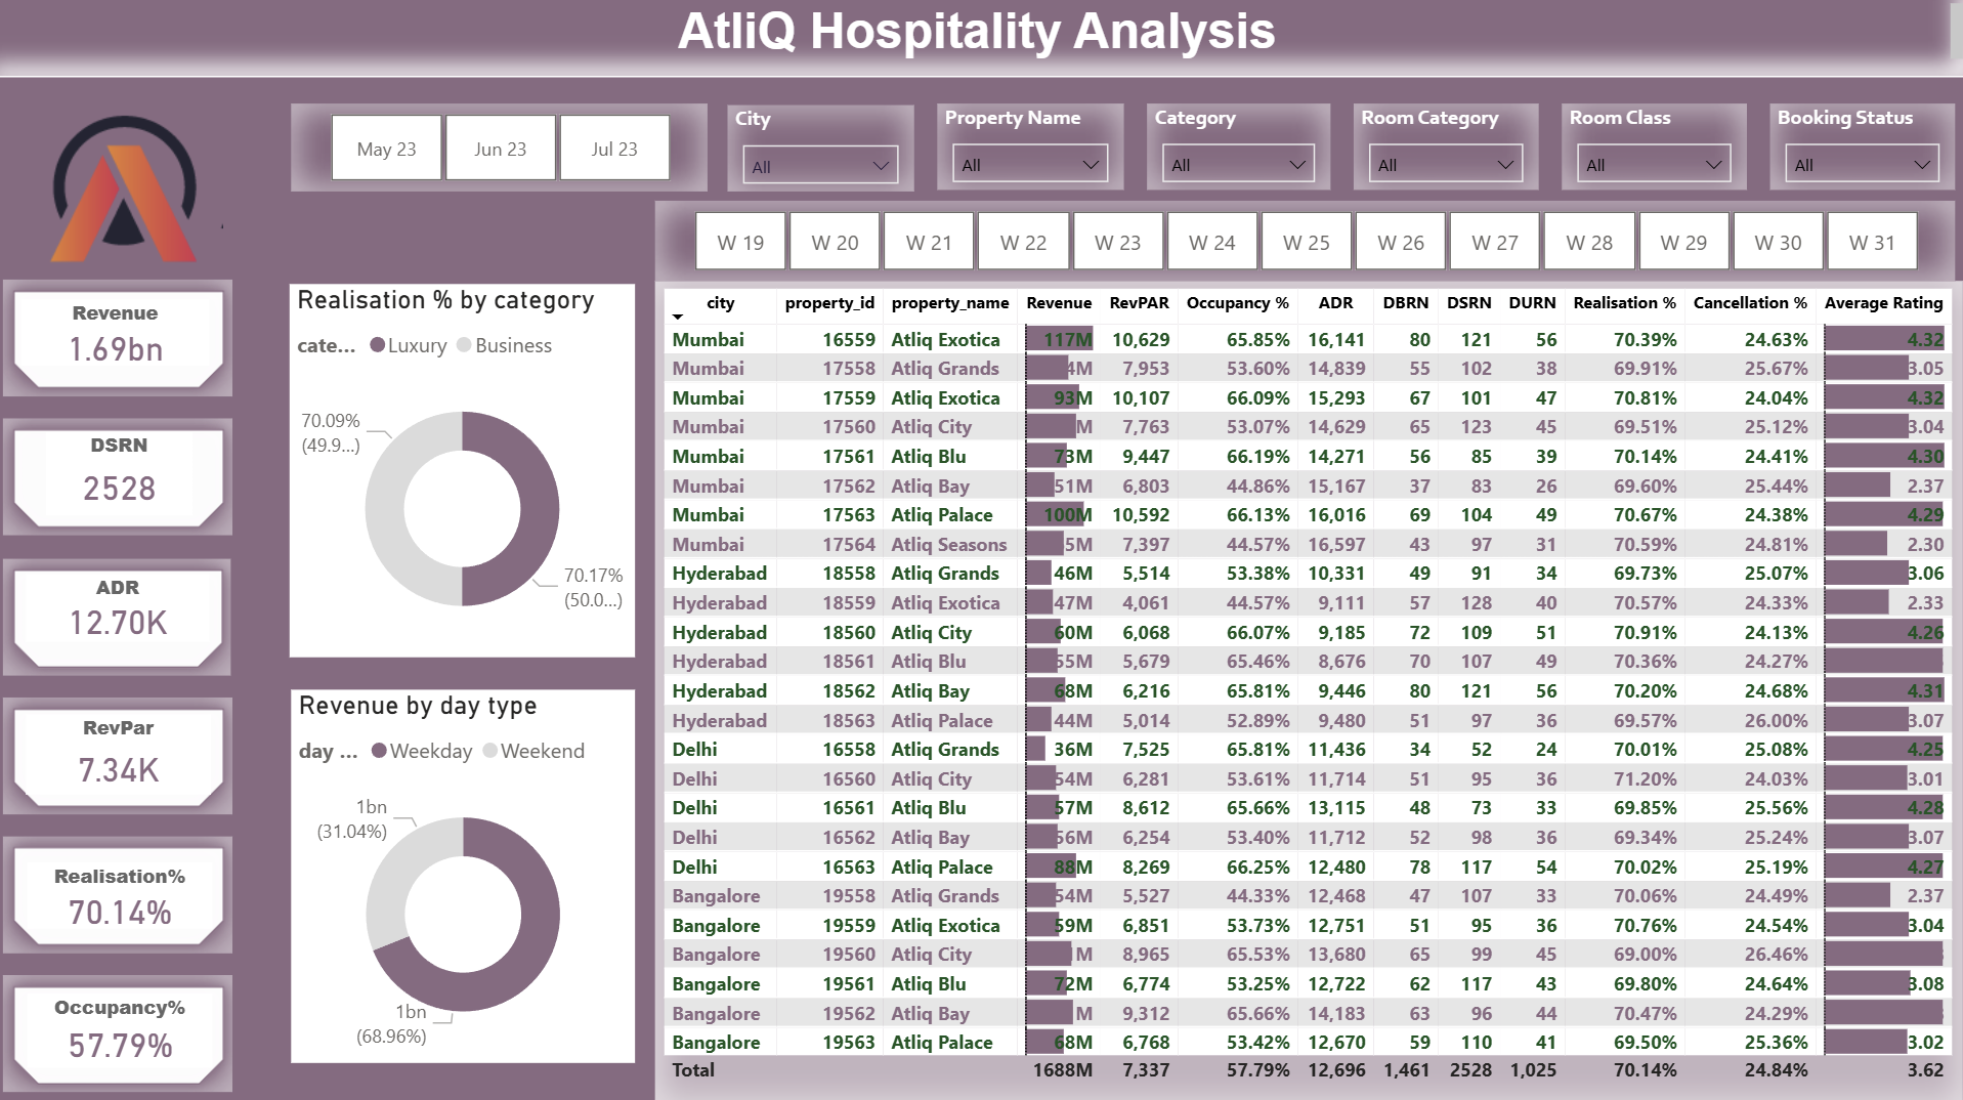

Layout of this report page (visuals, bound fields, positions):
{"tool":"powerbi","page":{"name":"KEY METRICES","canvas":[1280,720],"ordinal":2},"visuals":[{"type":"tableEx","fields":{"Values":["dim_hotels.city","dim_hotels.property_id","dim_hotels.property_name","key_measure.Revenue","key_measure.RevPAR","key_measure.Occupancy %","key_measure.ADR","key_measure.DBRN","key_measure.DSRN","key_measure.DURN","key_measure.Realisation %","key_measure.Cancellation %"]},"box":[428.1,185.7,847.8,534.3],"z":0},{"type":"slicer","title":"City","fields":{"Values":["dim_hotels.city"]},"box":[475.4,72.4,120.6,55.5],"z":1000},{"type":"slicer","title":"Property Name","fields":{"Values":["dim_hotels.property_name"]},"box":[611,71.2,120.6,55.5],"z":2000},{"type":"slicer","title":"Category","fields":{"Values":["dim_hotels.category"]},"box":[746.7,71.2,119.4,55.5],"z":3000},{"type":"slicer","title":"Room Class","fields":{"Values":["dim_rooms.room_class"]},"box":[1016.1,71.2,120,56],"z":4000},{"type":"slicer","title":"Booking Status","fields":{"Values":["fact_bookings.booking_status"]},"box":[1151.1,71.2,120,56],"z":5000},{"type":"slicer","title":"Room Category","fields":{"Values":["fact_aggregated_bookings.room_category"]},"box":[881.1,71.2,120,56],"z":6000},{"type":"slicer","fields":{"Values":["dim_date.week no"]},"box":[428.1,133.9,843,51.9],"z":7000},{"type":"slicer","fields":{"Values":["dim_date.mmm yy"]},"box":[191.8,71.2,270.2,56.7],"z":8000},{"type":"group","id":"g1","title":"Group 7","box":[3.6,184.2,150.8,78.4],"z":9000},{"type":"textbox","box":[0,0,1280,54],"z":10000},{"type":"card","title":"Revenue","fields":{"Values":["key_measure.Revenue"]},"box":[16.9,198.7,121.8,43.4],"z":10000,"group":"g6"},{"type":"group","id":"g2","title":"Group 8","box":[3.6,274.4,150.8,78.4],"z":11000},{"type":"group","id":"g3","title":"Group 8","box":[3.6,364.7,149.5,78.4],"z":12000},{"type":"shape","box":[3.6,635.3,150.8,78],"z":12000,"group":"g12"},{"type":"group","id":"g4","title":"Group 9","box":[3.6,454.9,150.8,78.4],"z":13000},{"type":"shape","box":[3.6,184.2,150.8,78.4],"z":14000,"group":"g1"},{"type":"shape","box":[3.6,274.4,150.8,78.4],"z":14000,"group":"g7"},{"type":"shape","box":[3.6,364.7,150,78],"z":14000,"group":"g8"},{"type":"shape","box":[3.6,454.9,150.8,78.4],"z":14000,"group":"g10"},{"type":"group","id":"g5","title":"Group 10","box":[3.6,545.1,150.8,78.4],"z":14000},{"type":"shape","box":[3.6,545.1,150.8,78.4],"z":14000,"group":"g11"},{"type":"group","id":"g6","title":"Group 1","box":[16.9,198.7,121.8,43.4],"z":15000,"group":"g1"},{"type":"group","id":"g7","title":"Group 7","box":[3.6,274.4,150.8,78.4],"z":15000,"group":"g2"},{"type":"group","id":"g8","title":"Group 7","box":[3.6,364.7,150,78],"z":15000,"group":"g3"},{"type":"group","id":"g9","title":"Group 8","box":[3.6,454.9,150.8,78.4],"z":15000,"group":"g4"},{"type":"group","id":"g10","title":"Group 7","box":[3.6,454.9,150.8,78.4],"z":15000,"group":"g9"},{"type":"group","id":"g11","title":"Group 7","box":[3.6,545.1,150.8,78.4],"z":15000,"group":"g14"},{"type":"group","id":"g12","title":"Group 4","box":[3.6,635.3,150.8,77.2],"z":15000},{"type":"image","box":[3.6,51.9,149.5,149.5],"z":16000},{"type":"group","id":"g13","title":"Group 6","box":[32.5,284,95.3,54.3],"z":16000,"group":"g2"},{"type":"donutChart","fields":{"Y":["key_measure.Revenue"],"Category":["dim_date.day type"]},"box":[191.8,450.8,223.1,242.4],"z":17000},{"type":"group","id":"g14","title":"Group 8","box":[3.6,545.1,150.8,78.4],"z":17000,"group":"g5"},{"type":"card","title":"Occupancy%","fields":{"Values":["key_measure.Occupancy %"]},"box":[20.5,648.5,120.6,48],"z":17000,"group":"g12"},{"type":"donutChart","fields":{"Y":["key_measure.Realisation %"],"Category":["dim_hotels.category"]},"box":[190.6,187.9,224.3,242.4],"z":18000},{"type":"group","id":"g15","title":"Group 3","box":[20.5,563.2,120.6,43.4],"z":19500,"group":"g5"},{"type":"card","title":"RevPar","fields":{"Values":["key_measure.RevPAR"]},"box":[19.3,466.8,120.4,51.8],"z":20000,"group":"g16"},{"type":"group","id":"g16","title":"Group 2","box":[19.3,466.8,120.6,51.9],"z":20500,"group":"g4"},{"type":"card","title":"Realisation%","fields":{"Values":["key_measure.Realisation %"]},"box":[20.5,563.2,120.4,43.3],"z":21000,"group":"g15"},{"type":"card","title":"ADR","fields":{"Values":["key_measure.ADR"]},"box":[19.2,376.2,119.8,43.9],"z":22000,"group":"g3"},{"type":"card","title":"DSRN","fields":{"Values":["key_measure.DSRN"]},"box":[32.5,284,95.3,54.3],"z":22500,"group":"g13"}]}

Visuals, with their boxes in screenshot pixels (x1, y1, x2, y2), scaled from the page's 1280x720 canvas onto the 1963x1100 screenshot:
tableEx - dim_hotels.city x dim_hotels.property_id: x1=657, y1=284, x2=1957, y2=1099
"City" slicer: x1=729, y1=111, x2=914, y2=195
"Property Name" slicer: x1=937, y1=109, x2=1122, y2=194
"Category" slicer: x1=1145, y1=109, x2=1328, y2=194
"Room Class" slicer: x1=1558, y1=109, x2=1742, y2=194
"Booking Status" slicer: x1=1765, y1=109, x2=1949, y2=194
"Room Category" slicer: x1=1351, y1=109, x2=1535, y2=194
slicer - dim_date.week no: x1=657, y1=205, x2=1949, y2=284
slicer - dim_date.mmm yy: x1=294, y1=109, x2=709, y2=195
"Group 7" group: x1=6, y1=281, x2=237, y2=401
textbox: x1=0, y1=0, x2=1962, y2=82
"Revenue" card: x1=26, y1=304, x2=213, y2=370
"Group 8" group: x1=6, y1=419, x2=237, y2=539
"Group 8" group: x1=6, y1=557, x2=235, y2=677
shape: x1=6, y1=971, x2=237, y2=1090
"Group 9" group: x1=6, y1=695, x2=237, y2=815
shape: x1=6, y1=281, x2=237, y2=401
shape: x1=6, y1=419, x2=237, y2=539
shape: x1=6, y1=557, x2=236, y2=676
shape: x1=6, y1=695, x2=237, y2=815
"Group 10" group: x1=6, y1=833, x2=237, y2=953
shape: x1=6, y1=833, x2=237, y2=953
"Group 1" group: x1=26, y1=304, x2=213, y2=370
"Group 7" group: x1=6, y1=419, x2=237, y2=539
"Group 7" group: x1=6, y1=557, x2=236, y2=676
"Group 8" group: x1=6, y1=695, x2=237, y2=815
"Group 7" group: x1=6, y1=695, x2=237, y2=815
"Group 7" group: x1=6, y1=833, x2=237, y2=953
"Group 4" group: x1=6, y1=971, x2=237, y2=1089
image: x1=6, y1=79, x2=235, y2=308
"Group 6" group: x1=50, y1=434, x2=196, y2=517
donutChart - key_measure.Revenue x dim_date.day type: x1=294, y1=689, x2=636, y2=1059
"Group 8" group: x1=6, y1=833, x2=237, y2=953
"Occupancy%" card: x1=31, y1=991, x2=216, y2=1064
donutChart - key_measure.Realisation % x dim_hotels.category: x1=292, y1=287, x2=636, y2=657
"Group 3" group: x1=31, y1=860, x2=216, y2=927
"RevPar" card: x1=30, y1=713, x2=214, y2=792
"Group 2" group: x1=30, y1=713, x2=215, y2=792
"Realisation%" card: x1=31, y1=860, x2=216, y2=927
"ADR" card: x1=29, y1=575, x2=213, y2=642
"DSRN" card: x1=50, y1=434, x2=196, y2=517
